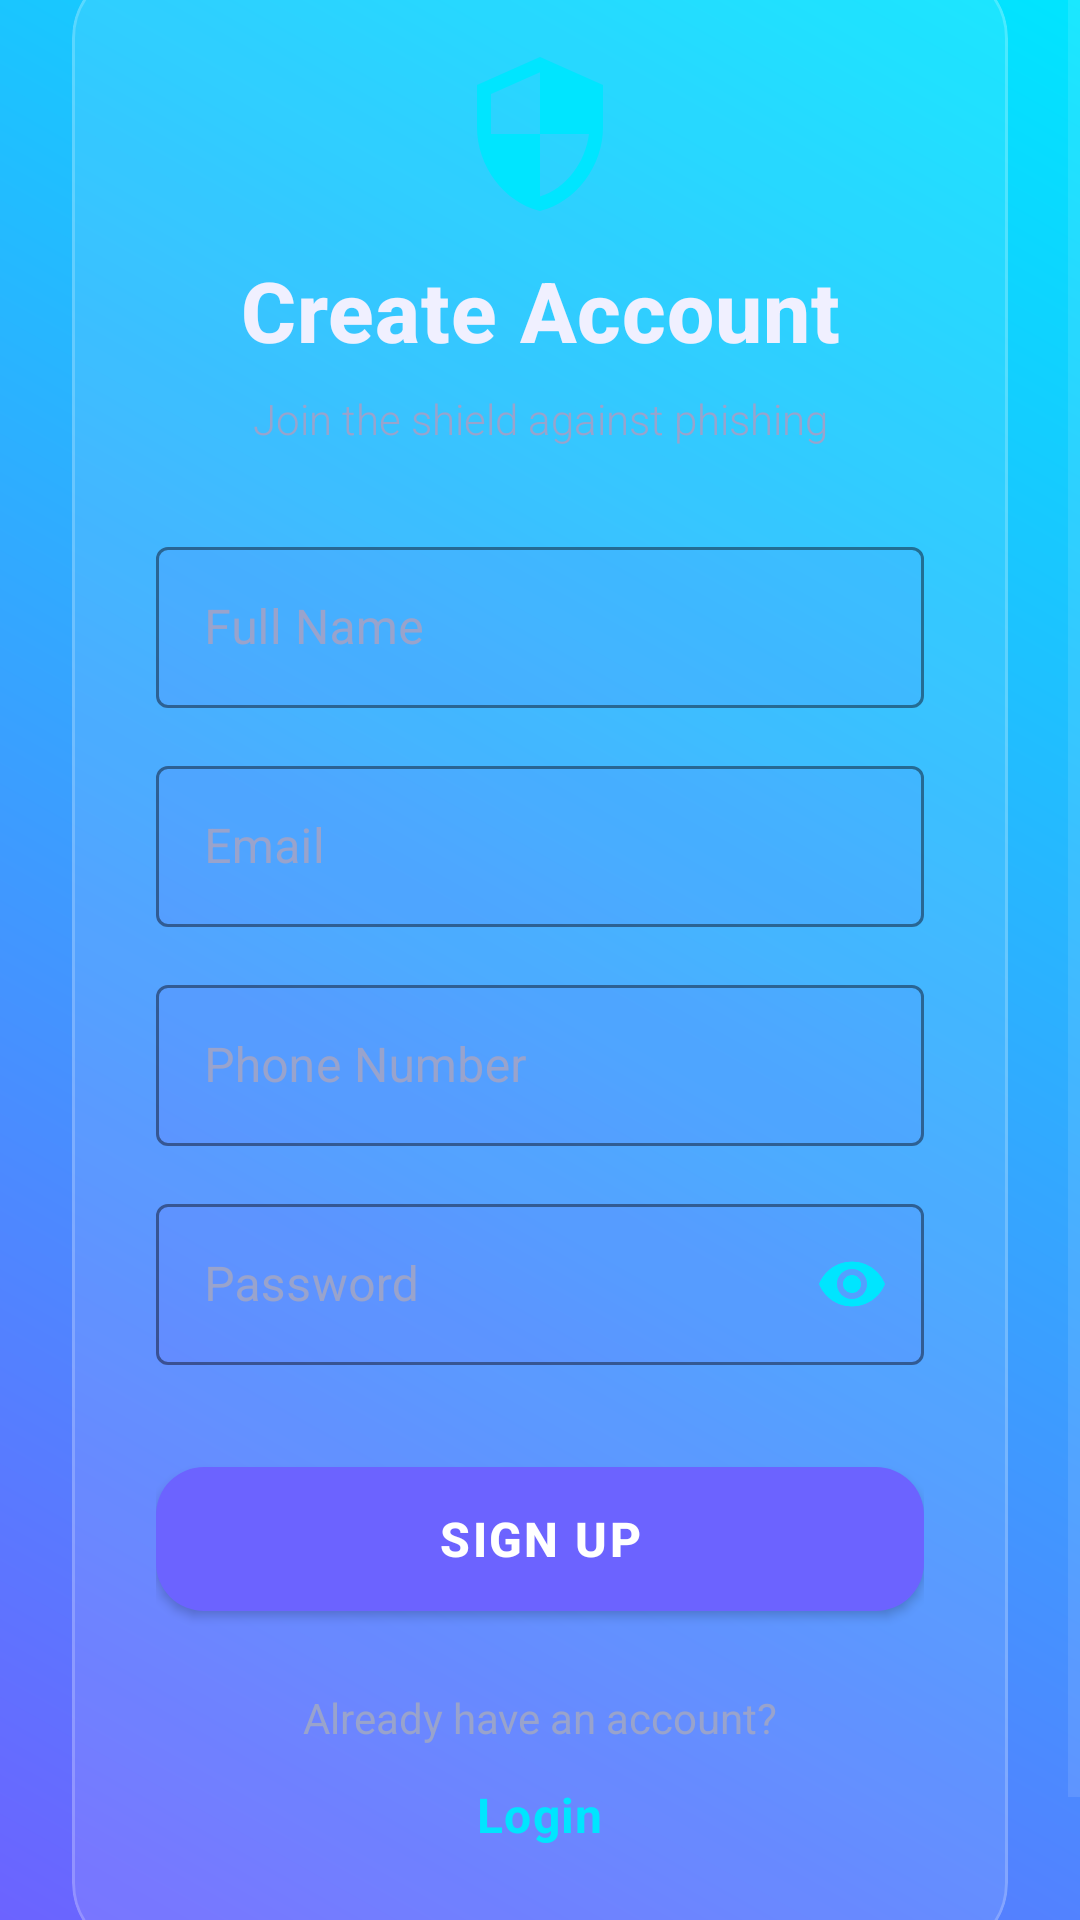

Named icons in this screenshot (1080×1920) and their bounding boxes, bbox(x1, y1, x2, y2):
security: bbox(477, 57, 603, 211)
